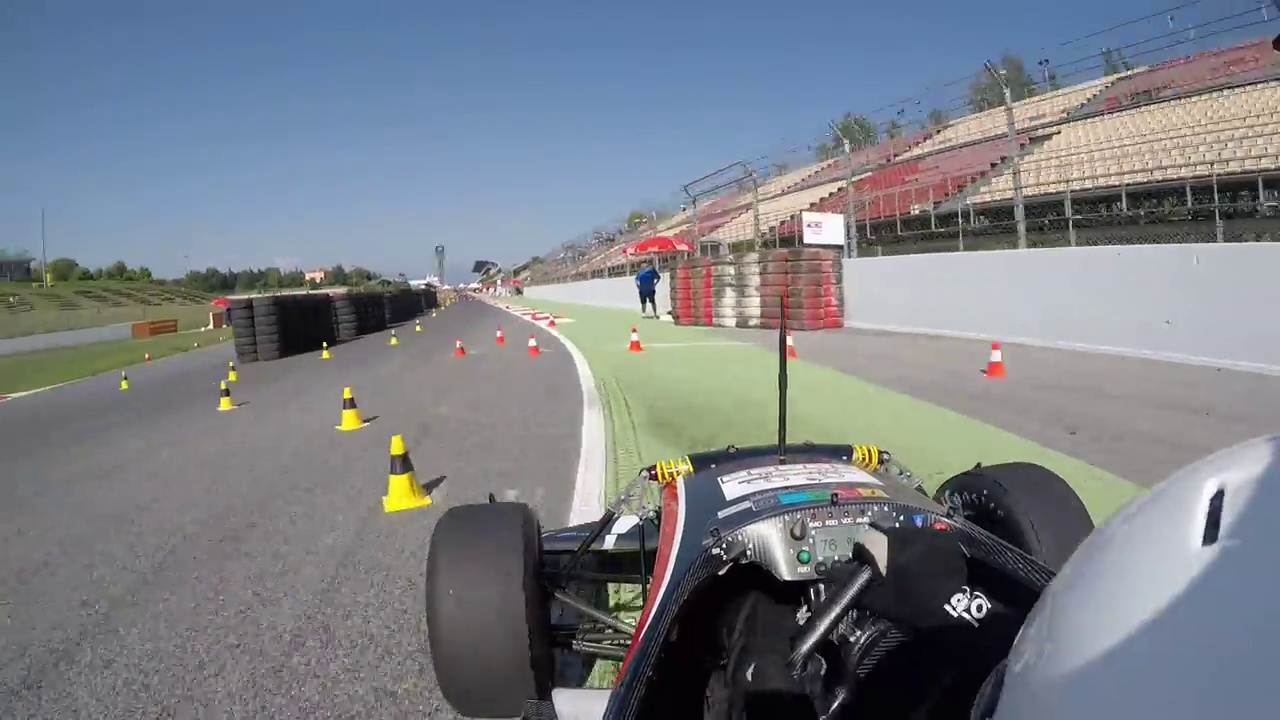Cone: (382, 431, 429, 511), (336, 386, 367, 434), (986, 338, 1011, 376), (217, 376, 236, 414)
